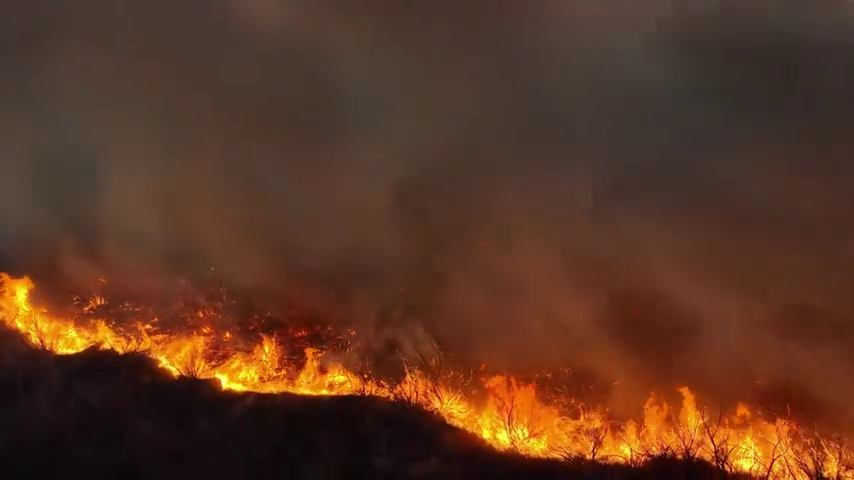forest_fire: (0, 274, 853, 479)
